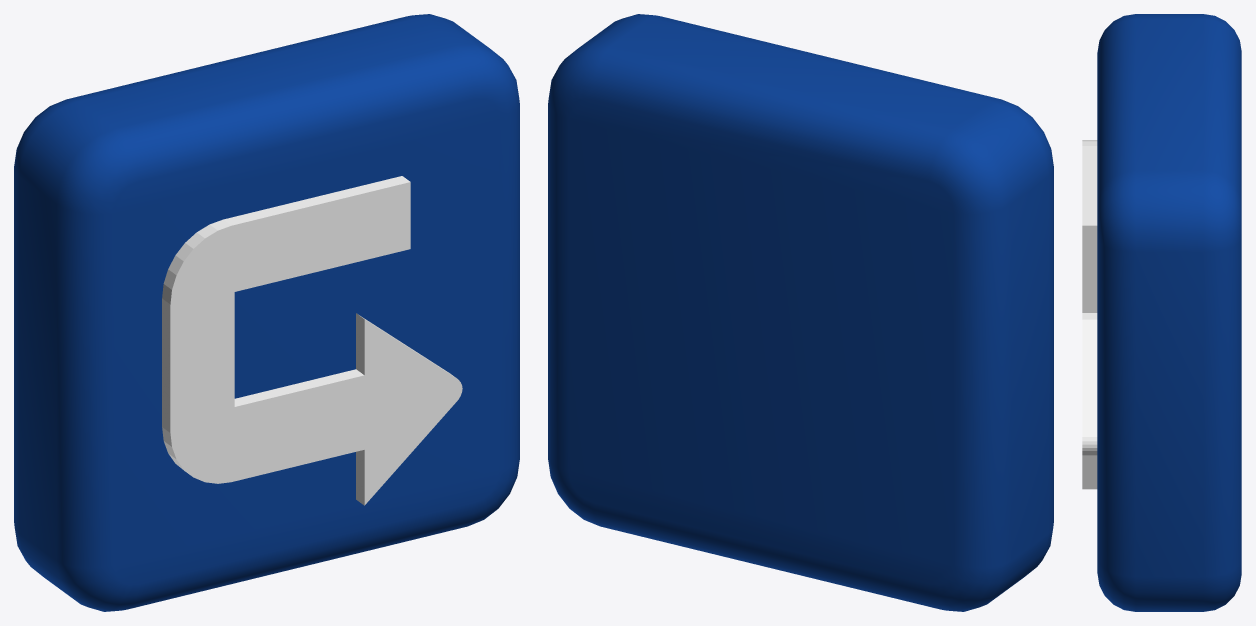
Rendered from left_arrow_curving_right.fbx.
3 views of the same model, side by side, from view 1: azimuth 30°, elevation 25°; view 2: azimuth 150°, elevation 25°; view 3: azimuth 270°, elevation 25° (orthographic). The views are drawn at different scales.
Visible parts, largest first — view 1: Cube.6335; view 2: Cube.6335; view 3: Cube.6335.
Part boxes in pixels (x1=…): Cube.6335: x1=14, y1=14, x2=519, y2=611; Cube.6335: x1=548, y1=14, x2=1053, y2=611; Cube.6335: x1=1082, y1=14, x2=1241, y2=611.
Bounding box in the file's own units: 220 × 220 × 73.
Materials: 1 (1 with a texture image).
